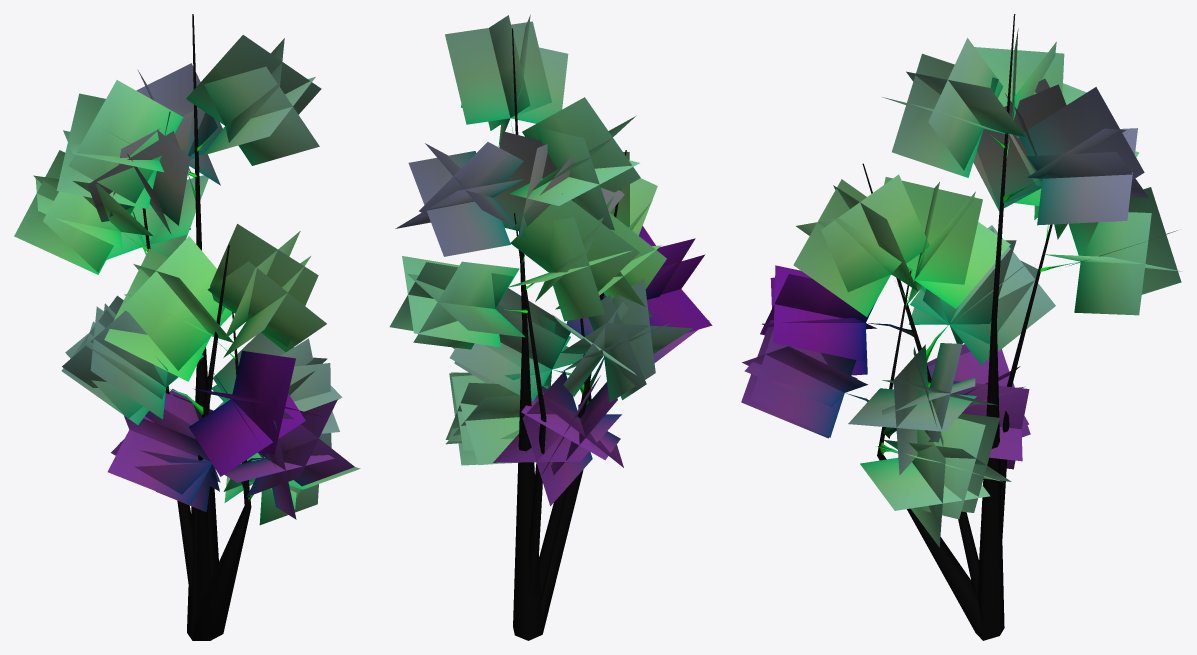
Rendered from URP_P6_Tree_9_LOD_3.fbx.
3 renders of one model, left to right at view 1: azimuth 30°, elevation 25°; view 2: azimuth 150°, elevation 25°; view 3: azimuth 270°, elevation 25°, orthographic.
Parts seen in each view (by area): view 1: Tree_9_LOD_3; view 2: Tree_9_LOD_3; view 3: Tree_9_LOD_3.
Part boxes in pixels (bbox=[...]): Tree_9_LOD_3: bbox=[14, 14, 360, 640]; Tree_9_LOD_3: bbox=[389, 14, 712, 640]; Tree_9_LOD_3: bbox=[741, 14, 1182, 640].
Size of the model in its own units: 460 by 1075 by 694.
